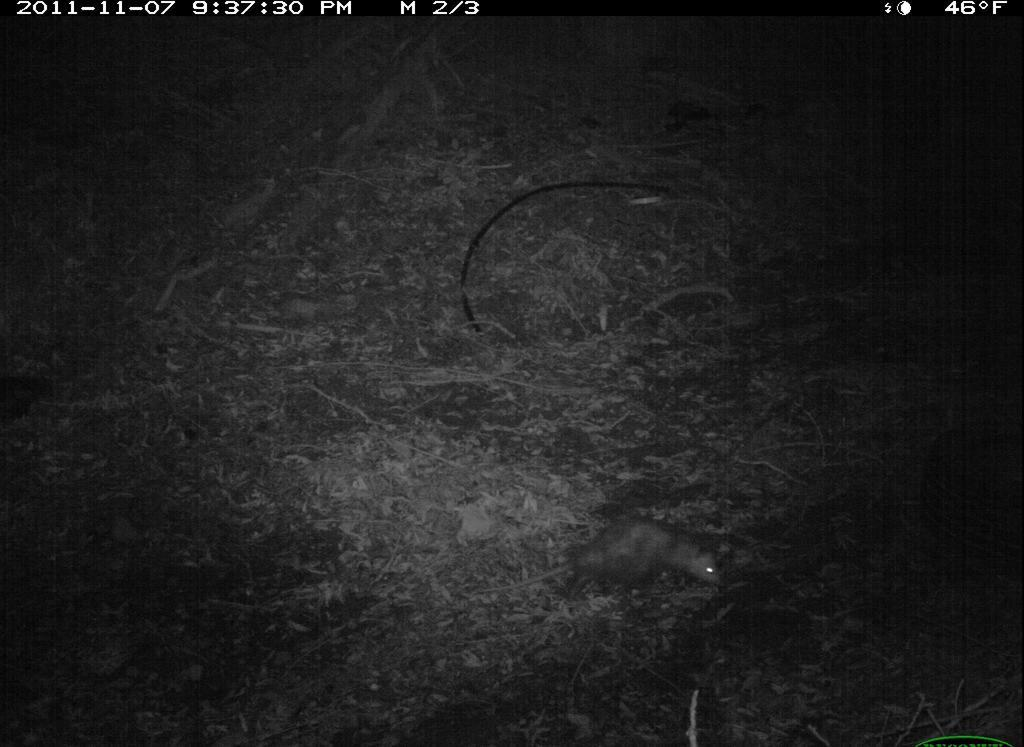opossum: (459, 509, 747, 635)
